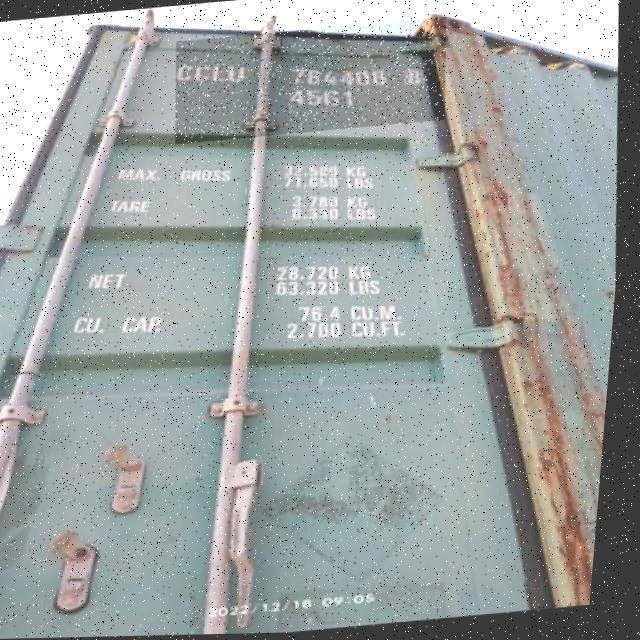container_number_h: (170, 19, 453, 144)
